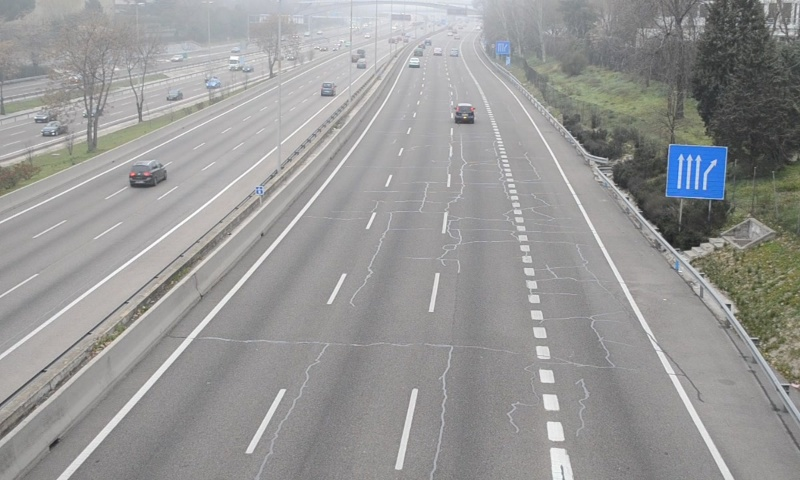car: (454, 103, 476, 126)
